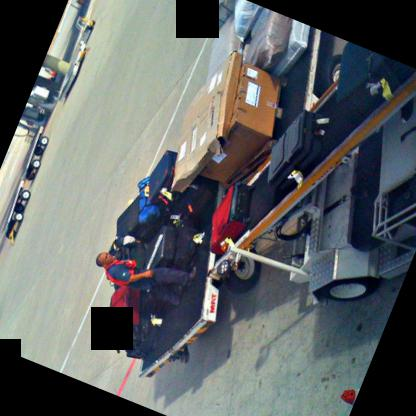suitcase: (338, 40, 414, 112), (267, 104, 327, 189), (208, 177, 254, 257), (206, 11, 243, 81), (266, 18, 310, 76), (107, 284, 141, 354), (170, 176, 217, 226), (126, 294, 162, 359), (118, 290, 150, 351), (148, 147, 177, 205), (144, 223, 176, 268), (115, 194, 143, 239)
